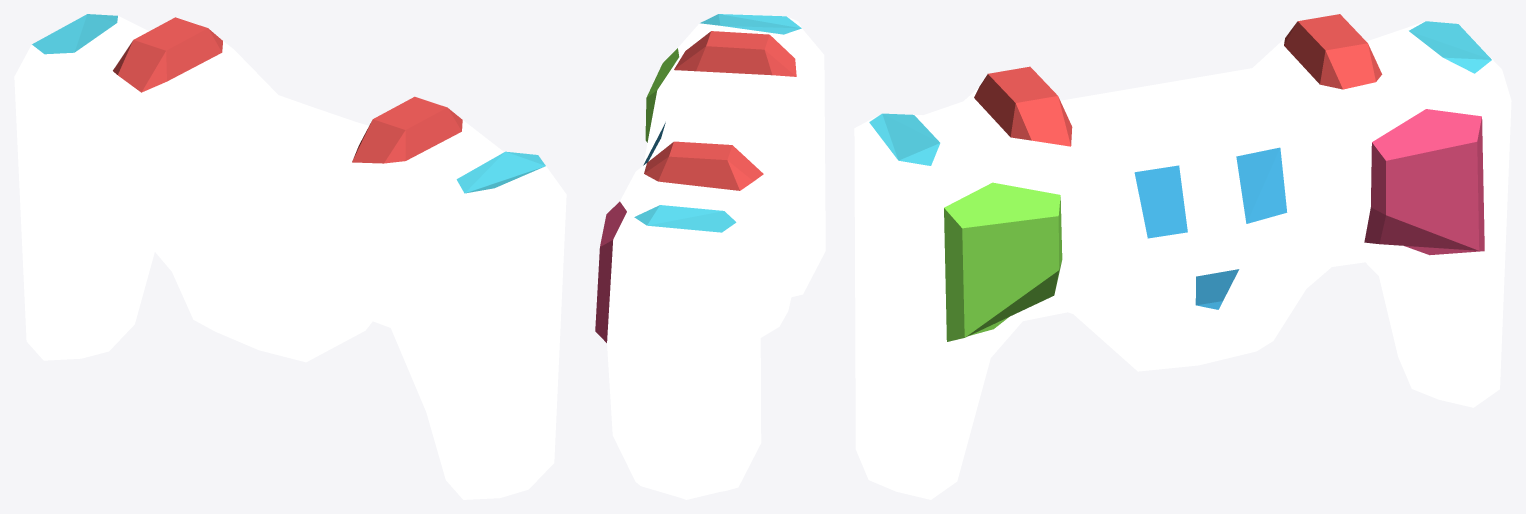
Rendered from Game.fbx.
The picture shows the model from 3 angles, left to right: view 1: azimuth 30°, elevation 25°; view 2: azimuth 150°, elevation 25°; view 3: azimuth 270°, elevation 25°; orthographic projection. The views are drawn at different scales.
Visible parts, largest first — view 1: Game; view 2: Game; view 3: Game.
Boxes of the visible parts, x1=… form: Game: x1=14, y1=14, x2=566, y2=499; Game: x1=595, y1=14, x2=825, y2=499; Game: x1=854, y1=14, x2=1511, y2=499.
Bounding box in the file's own units: 121 × 126 × 193.
